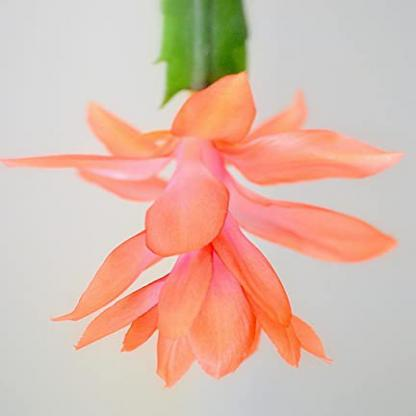Aglonema: (99, 78, 387, 379)
